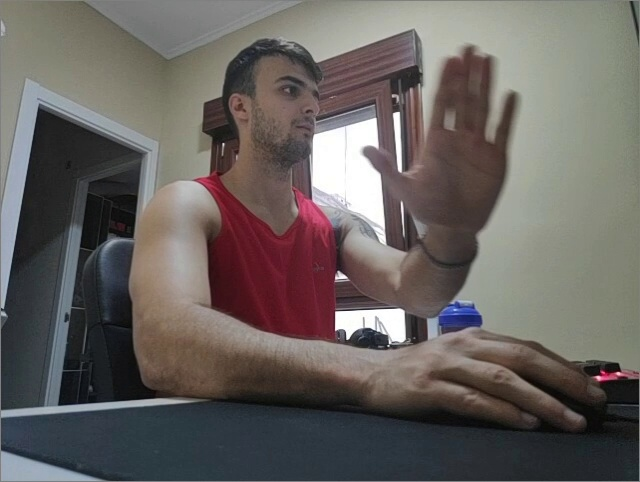Palm: (360, 40, 519, 231)
